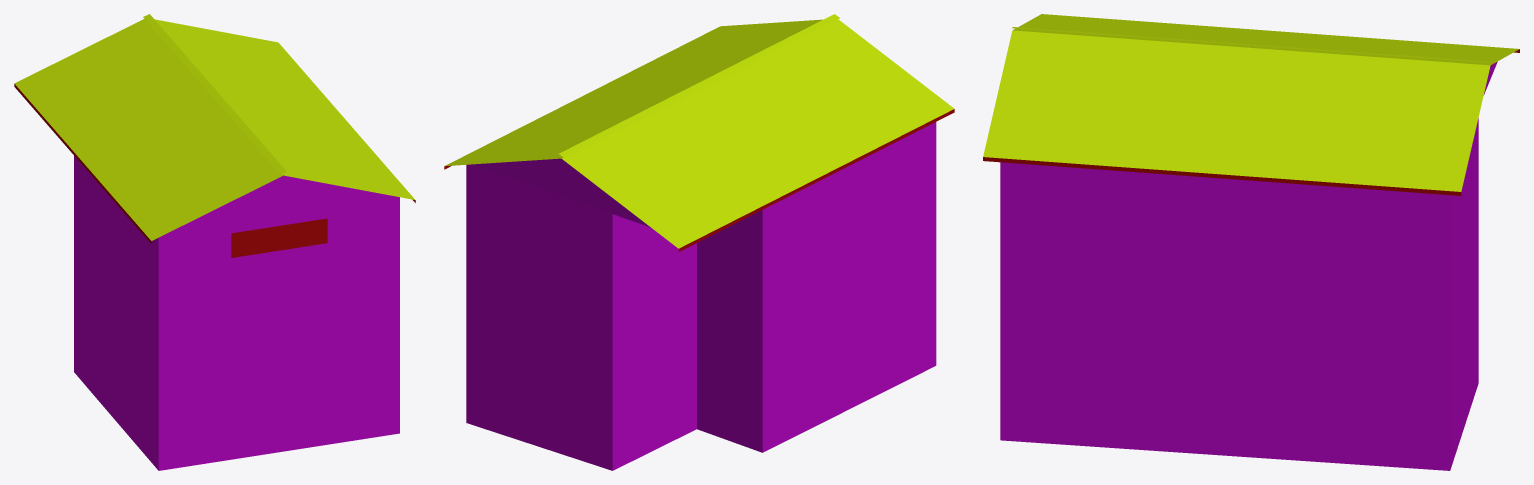
File: rmc_75.glb
3 views of the same model, side by side, from view 1: azimuth 30°, elevation 25°; view 2: azimuth 150°, elevation 25°; view 3: azimuth 270°, elevation 25° (orthographic). The views are drawn at different scales.
Parts seen in each view (by area): view 1: rmc_75; view 2: rmc_75; view 3: rmc_75.
Boxes of the visible parts, x1,y1,x2,y2 form: rmc_75: [14, 14, 415, 470]; rmc_75: [444, 14, 954, 470]; rmc_75: [983, 14, 1519, 470].
Bounding box in the file's own units: 11.38 × 10.36 × 14.5.
